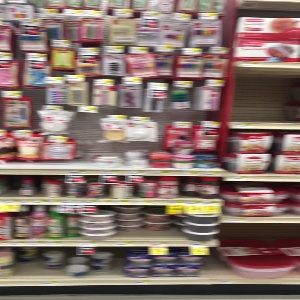void: (235, 66, 300, 128)
